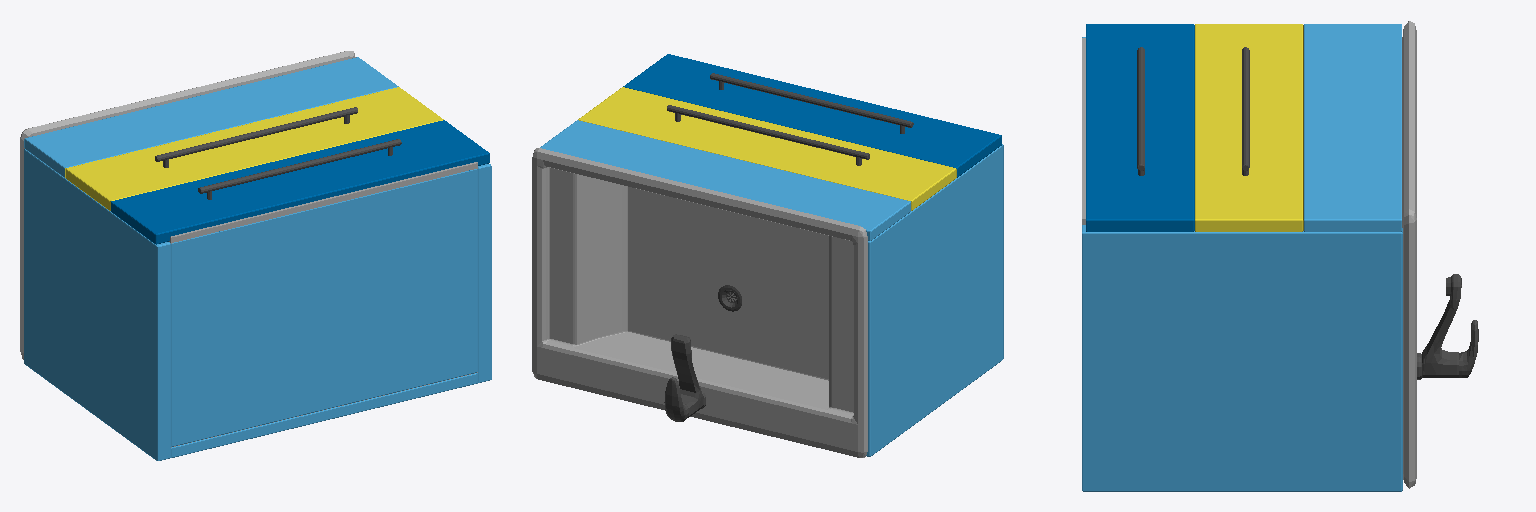
The robot description file, URDF, robot "186":
<robot name="186">


	<link name="0:virtual">
		<visual>
			<origin xyz="0.0 0.0 0.0" rpy="0 0 0"/>
			<geometry>
				<cylinder length="0" radius="0"/>
			</geometry>
		</visual>
	</link>


	<link name="1:static">
		<visual>
			<origin xyz="-0.0 -0.0 -0.0" rpy="0 0 0"/>
			<geometry>
				<mesh filename="../raw_data/186/part_meshes/1.dae" />
			</geometry>
		</visual>
	</link>


	<link name="2:faucet spout 1">
		<visual>
			<origin xyz="-0.0 -0.6515345275402069 0.2274613996446133" rpy="0 0 0"/>
			<geometry>
				<mesh filename="../raw_data/186/part_meshes/2.dae" />
			</geometry>
		</visual>
	</link>


	<link name="3:drawer 1">
		<visual>
			<origin xyz="-0.0 -0.30392350256443024 -0.0066605061292648315" rpy="0 0 0"/>
			<geometry>
				<mesh filename="../raw_data/186/part_meshes/3.dae" />
			</geometry>
		</visual>
	</link>


	<link name="4:drawer 2">
		<visual>
			<origin xyz="-0.0 -0.10323300954769365 -0.0066605061292648315" rpy="0 0 0"/>
			<geometry>
				<mesh filename="../raw_data/186/part_meshes/4.dae" />
			</geometry>
		</visual>
	</link>


	<link name="5:faucet handle 1">
		<visual>
			<origin xyz="0.025790697541252027 -0.6819350123405457 0.22680968813495406" rpy="0 0 0"/>
			<geometry>
				<mesh filename="../raw_data/186/part_meshes/5.dae" />
			</geometry>
		</visual>
	</link>


	<joint name="0:virtual::1:static" type="fixed">
		<parent link="0:virtual"/>
		<child link="1:static"/>
		<origin xyz="0.0 0.0 0.0" rpy="0 0 0"/>
	</joint>


	<joint name="0:virtual::2:faucet spout 1_rotation" type="revolute">
		<parent link="0:virtual"/>
		<child link="2:faucet spout 1"/>
		<origin xyz="0.0 0.6515345275402069 -0.2274613996446133" rpy="0 0 0"/>
		<limit lower="-0.8482300164692442" upper="0.5026548245743669" effort="10" velocity="3"/>
		<axis xyz="0.0 1.0 0.0"/>
	</joint>


	<joint name="0:virtual::3:drawer 1_translation" type="prismatic">
		<parent link="0:virtual"/>
		<child link="3:drawer 1"/>
		<origin xyz="0.0 0.30392350256443024 0.0066605061292648315" rpy="0 0 0"/>
		<limit lower="0.0" upper="0.428109987854958" effort="10" velocity="3"/>
		<axis xyz="0.0 0.0 1.0"/>
	</joint>


	<joint name="0:virtual::4:drawer 2_translation" type="prismatic">
		<parent link="0:virtual"/>
		<child link="4:drawer 2"/>
		<origin xyz="0.0 0.10323300954769365 0.0066605061292648315" rpy="0 0 0"/>
		<limit lower="0.0" upper="0.428109987854958" effort="10" velocity="3"/>
		<axis xyz="0.0 0.0 1.0"/>
	</joint>


	<joint name="2:faucet spout 1::5:faucet handle 1_rotation" type="revolute">
		<parent link="2:faucet spout 1"/>
		<child link="5:faucet handle 1"/>
		<origin xyz="-0.025790697541252027 0.030400484800338745 0.0006517115096592307" rpy="0 0 0"/>
		<limit lower="-0.07853981633974483" upper="0.3141592653589793" effort="10" velocity="3"/>
		<axis xyz="-0.9998990528438284 0.0 -0.014208593245462153"/>
	</joint>


</robot>

--- What the picture shows (computed from the rendered views, not written in the file) ---
Views: 3 orthographic renders of the robot side by side, from view 1: azimuth 30°, elevation 25°; view 2: azimuth 150°, elevation 25°; view 3: azimuth 270°, elevation 25°.
Model 186 with 6 links and 5 joints (2 revolute, 2 prismatic, 1 fixed), rooted at 0:virtual, posed every joint at zero.
Visible links, largest first — view 1: 1:static, 4:drawer 2, 3:drawer 1; view 2: 1:static, 3:drawer 1, 4:drawer 2, 2:faucet spout 1, 5:faucet handle 1; view 3: 1:static, 4:drawer 2, 3:drawer 1, 2:faucet spout 1, 5:faucet handle 1.
Boxes of the visible links, x1=… form: 1:static: x1=20, y1=51, x2=491, y2=460; 4:drawer 2: x1=111, y1=120, x2=489, y2=447; 3:drawer 1: x1=65, y1=87, x2=443, y2=210; 1:static: x1=532, y1=120, x2=1003, y2=457; 3:drawer 1: x1=578, y1=87, x2=956, y2=210; 4:drawer 2: x1=623, y1=54, x2=1001, y2=177; 2:faucet spout 1: x1=671, y1=334, x2=703, y2=417; 5:faucet handle 1: x1=664, y1=377, x2=688, y2=421; 1:static: x1=1082, y1=21, x2=1421, y2=491; 4:drawer 2: x1=1082, y1=24, x2=1194, y2=231; 3:drawer 1: x1=1195, y1=24, x2=1303, y2=231; 2:faucet spout 1: x1=1422, y1=274, x2=1461, y2=377; 5:faucet handle 1: x1=1459, y1=320, x2=1478, y2=377.
Size in the robot's own frame: 0.84 by 0.7185 by 0.5753 metres.
5 mesh visuals loaded from 5 distinct referenced files (5 Collada DAE).